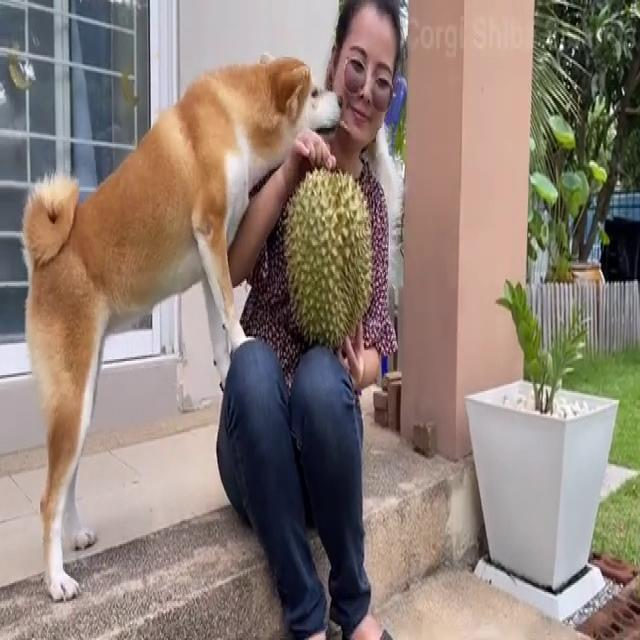durian: (280, 164, 377, 352)
